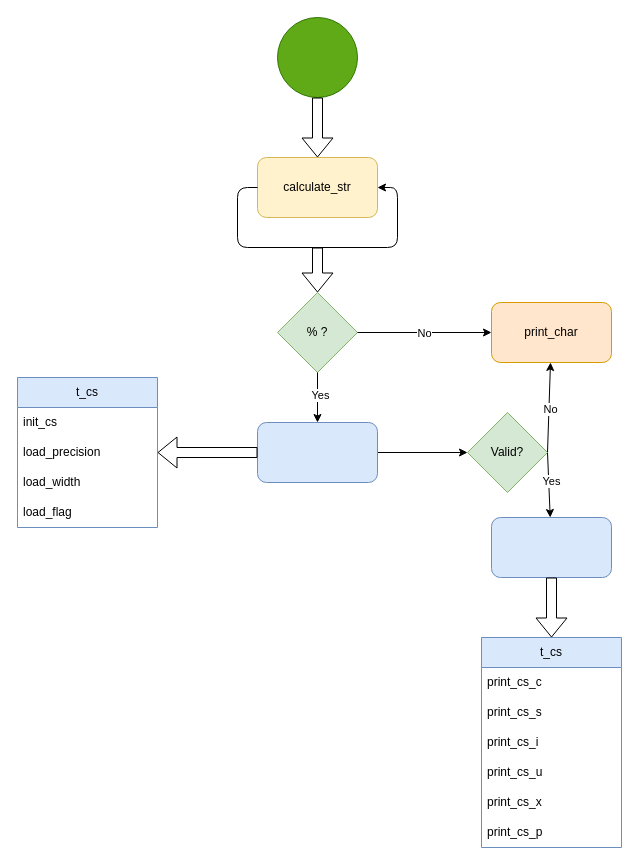
Image size: 639x865. Some labels were removed from this diagram. Each missing label, with the box of its shape:
FT_PRINTF: (276, 16, 358, 98)
load_cs: (256, 422, 378, 482)
print_cs: (490, 516, 612, 578)
